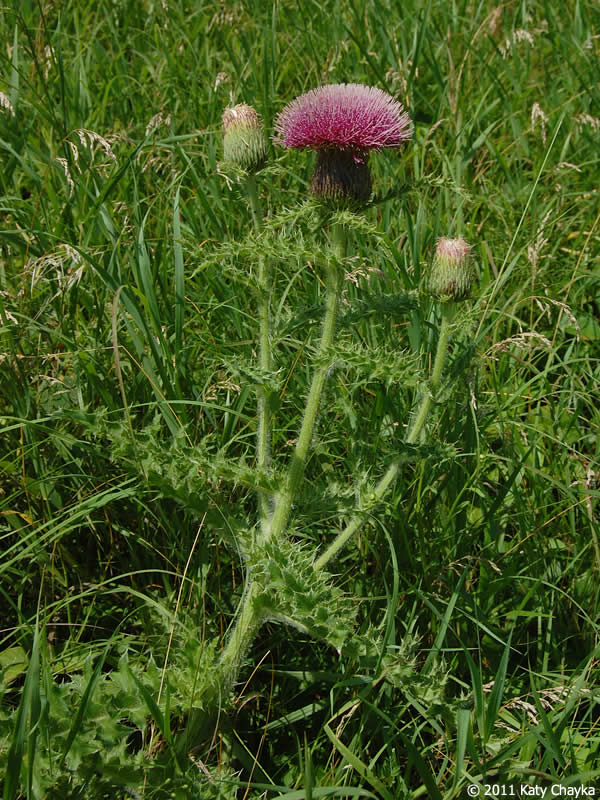thistle: (279, 88, 415, 221)
